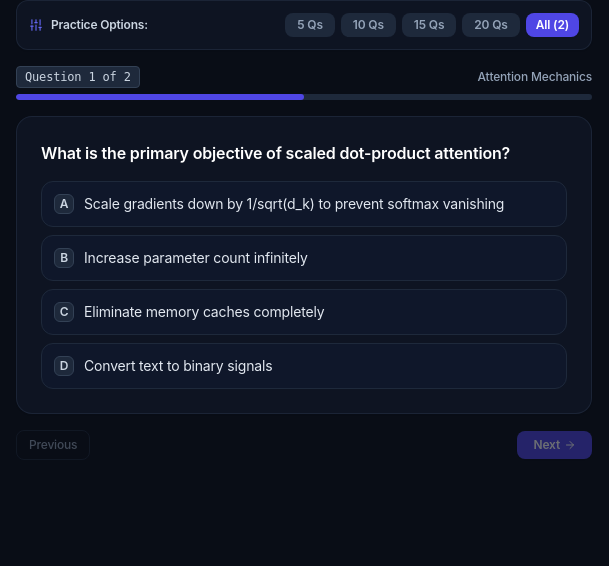
Test case: PracticeQuiz Component › allows advancing to next question
Step 1. Click the text "Scale gradients down by 1/sqrt(d_k) to prevent softmax vanishing" → point(294, 204), box [84,194,504,214]
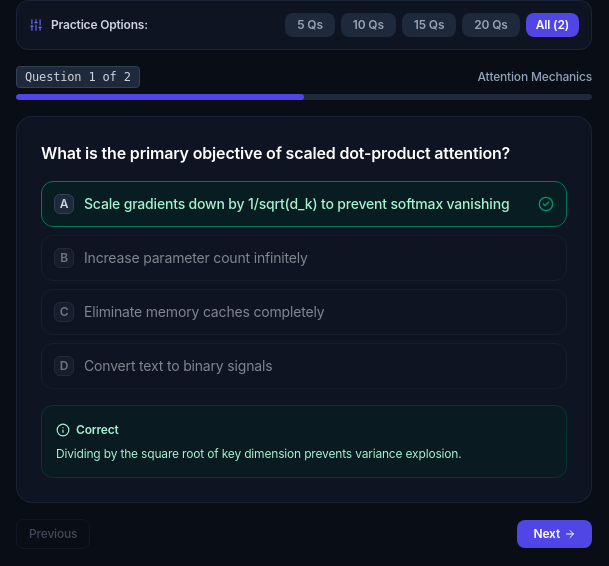
Step 2. Click the button "Next" → point(555, 534), box [518,520,592,548]
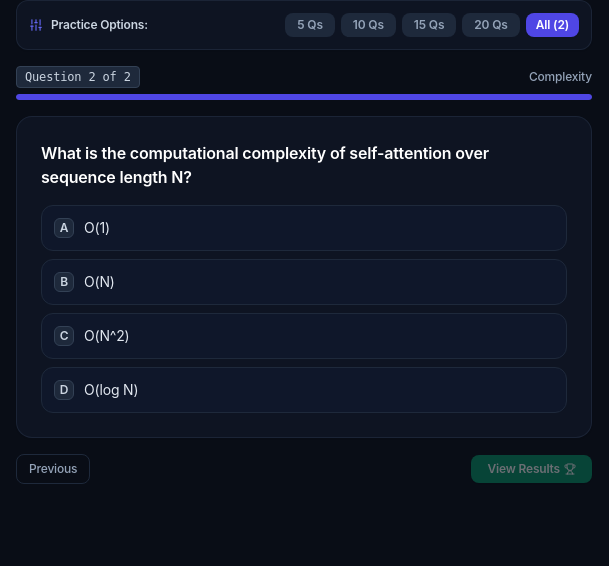
Check: the heading "What is the computational complexity of self-attention over sequence length N?" is shown, box [41,141,567,189]
